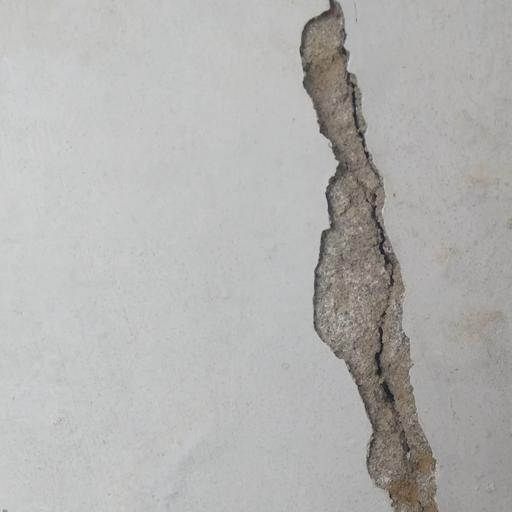spalling: (288, 0, 450, 512)
